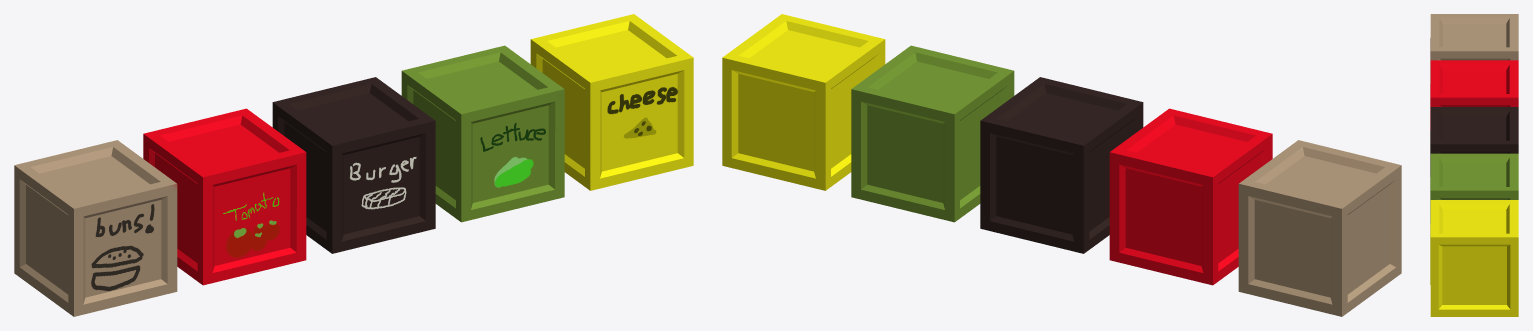
Rendered from Crates.fbx.
3 renders of one model, left to right at view 1: azimuth 30°, elevation 25°; view 2: azimuth 150°, elevation 25°; view 3: azimuth 270°, elevation 25°, orthographic. The views are drawn at different scales.
Parts seen in each view (by area): view 1: Bun Crate, Burger Crate, Lettuce Crate, Tomato Crate, Cheese Crate; view 2: Bun Crate, Burger Crate, Lettuce Crate, Tomato Crate, Cheese Crate; view 3: Cheese Crate, Tomato Crate, Bun Crate, Burger Crate, Lettuce Crate.
Part boxes in pixels (x1=…): Bun Crate: x1=14, y1=140, x2=177, y2=316; Burger Crate: x1=272, y1=77, x2=435, y2=253; Lettuce Crate: x1=401, y1=45, x2=564, y2=222; Tomato Crate: x1=143, y1=108, x2=306, y2=285; Cheese Crate: x1=530, y1=14, x2=693, y2=190; Bun Crate: x1=1238, y1=140, x2=1401, y2=316; Burger Crate: x1=980, y1=77, x2=1143, y2=253; Lettuce Crate: x1=851, y1=45, x2=1014, y2=222; Tomato Crate: x1=1109, y1=108, x2=1272, y2=285; Cheese Crate: x1=722, y1=14, x2=885, y2=190; Cheese Crate: x1=1430, y1=200, x2=1518, y2=316; Tomato Crate: x1=1430, y1=60, x2=1518, y2=130; Bun Crate: x1=1430, y1=14, x2=1518, y2=83; Burger Crate: x1=1430, y1=107, x2=1518, y2=176; Lettuce Crate: x1=1430, y1=153, x2=1518, y2=223.
Bounding box in the file's own units: 480 × 80 × 80.13.
Materials: 5 (5 with a texture image).
